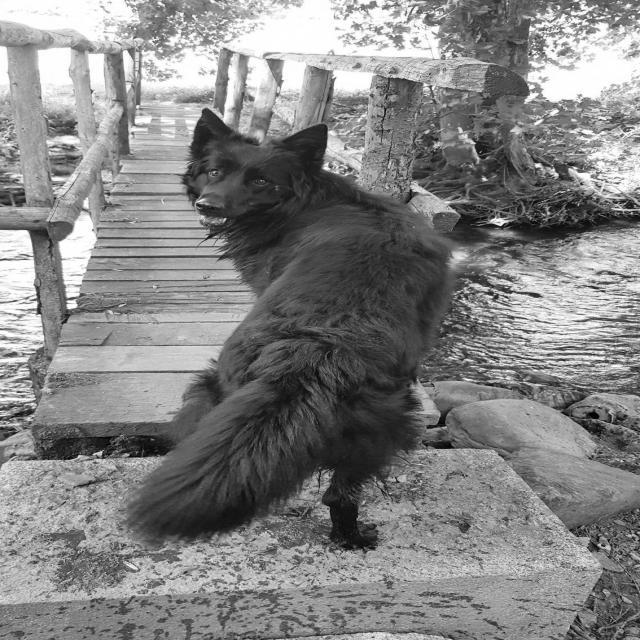Dogs: (121, 111, 468, 559)
